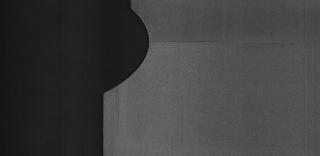welding line: (140, 38, 320, 48)
